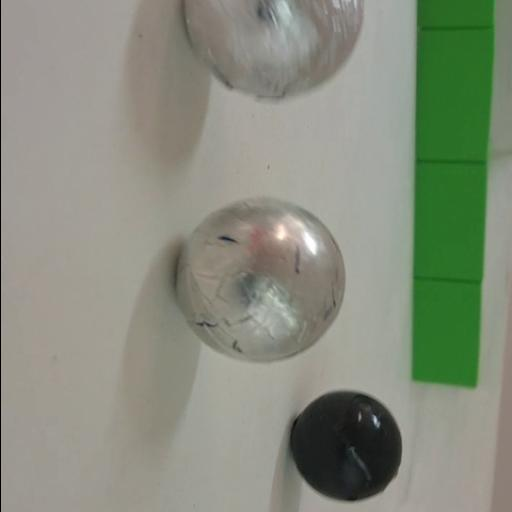alive: (172, 194, 346, 362), (182, 0, 364, 102)
dead: (290, 388, 402, 500)
